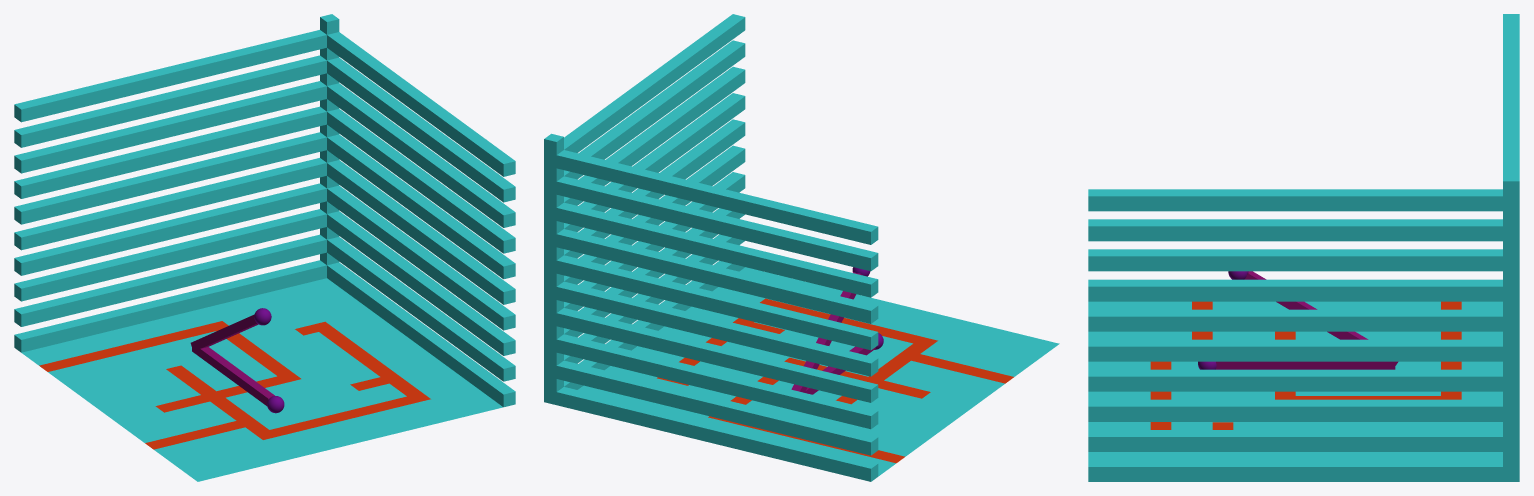
File: simple_006_Pivot_02.dae
The picture shows the model from 3 angles, left to right: view 1: azimuth 30°, elevation 25°; view 2: azimuth 150°, elevation 25°; view 3: azimuth 270°, elevation 25°; orthographic projection. The views are drawn at different scales.
Visible parts, largest first — view 1: pCube1_PIVOT, pPlane1, pCube2, pCube04; view 2: pCube1_PIVOT, pPlane1; view 3: pCube1_PIVOT, pPlane1, pCube2, pCube04.
Boxes of the visible parts, x1,y1,x2,y2 form: pCube1_PIVOT: (14, 14, 515, 407); pPlane1: (21, 278, 502, 481); pCube2: (192, 343, 274, 405); pCube04: (190, 314, 258, 351); pCube1_PIVOT: (544, 14, 878, 481); pPlane1: (578, 267, 1059, 476); pCube1_PIVOT: (1088, 14, 1519, 481); pPlane1: (1088, 301, 1502, 459); pCube2: (1216, 361, 1395, 369); pCube04: (1244, 271, 1398, 369).
Size of the model in its own units: 52 by 52 by 40.
